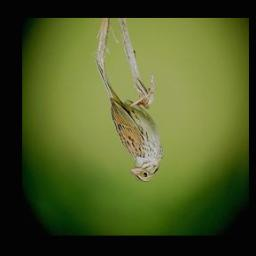Sparrow: (106, 73, 164, 185)
